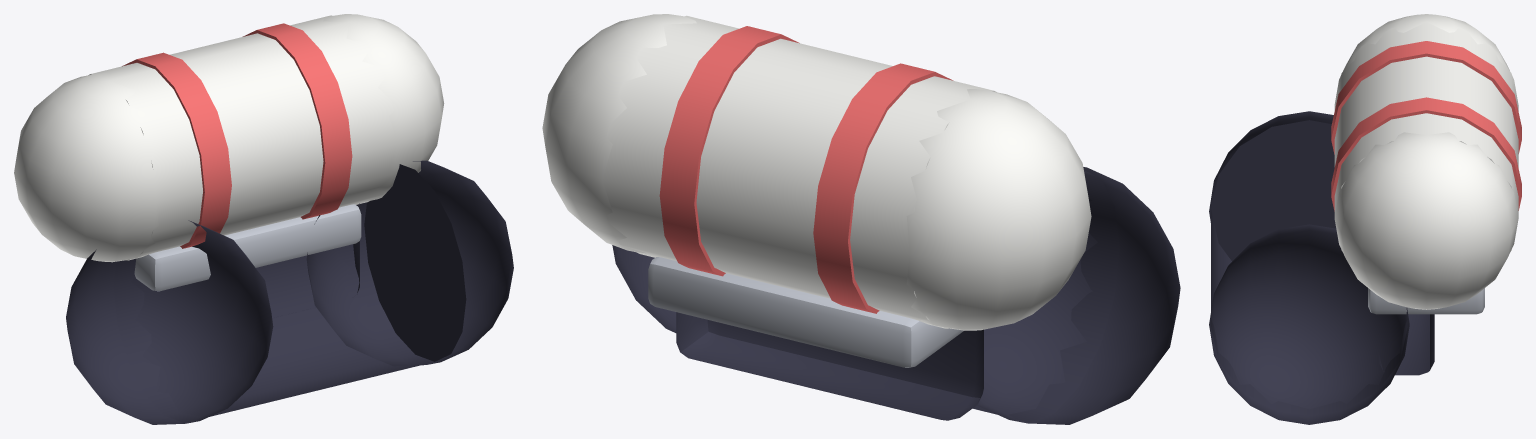
Rendered from Pieza_Tanque.fbx.
3 renders of one model, left to right at view 1: azimuth 30°, elevation 25°; view 2: azimuth 150°, elevation 25°; view 3: azimuth 270°, elevation 25°, orthographic. The views are drawn at different scales.
Parts seen in each view (by area): view 1: Tanque_Cuerpo, Tanque_Cuerpo_Contorno, Tanque_Tapa2_Contorno, Tanque_Tapa2, Tanque_Tapa1_Contorno, Tanque_Tapa1, Tanque_Soporte, Tanque_Franja1, Tanque_Franja2; view 2: Tanque_Cuerpo, Tanque_Tapa2, Tanque_Tapa2_Contorno, Tanque_Soporte_Contorno, Tanque_Soporte, Tanque_Tapa1, Tanque_Franja1, Tanque_Franja2, Tanque_Cuerpo_Contorno, Tanque_Tapa1_Contorno; view 3: Tanque_Tapa1_Contorno, Tanque_Tapa1, Tanque_Cuerpo_Contorno, Tanque_Cuerpo, Tanque_Franja1, Tanque_Franja2, Tanque_Tapa2, Tanque_Soporte_Contorno, Tanque_Soporte, Tanque_Tapa2_Contorno.
Boxes of the visible parts, x1,y1,x2,y2 form: Tanque_Cuerpo: (88, 15, 397, 260); Tanque_Cuerpo_Contorno: (113, 164, 466, 422); Tanque_Tapa2_Contorno: (66, 220, 273, 424); Tanque_Tapa2: (14, 72, 158, 262); Tanque_Tapa1_Contorno: (306, 160, 513, 366); Tanque_Tapa1: (323, 14, 444, 201); Tanque_Soporte: (134, 204, 361, 291); Tanque_Franja1: (242, 23, 352, 219); Tanque_Franja2: (122, 52, 231, 248); Tanque_Cuerpo: (602, 15, 996, 328); Tanque_Tapa2: (906, 89, 1091, 330); Tanque_Tapa2_Contorno: (977, 167, 1180, 424); Tanque_Soporte_Contorno: (676, 312, 983, 420); Tanque_Soporte: (648, 257, 963, 367); Tanque_Tapa1: (542, 14, 696, 253); Tanque_Franja1: (659, 26, 799, 276); Tanque_Franja2: (813, 63, 953, 313); Tanque_Cuerpo_Contorno: (973, 170, 1119, 422); Tanque_Tapa1_Contorno: (612, 245, 676, 332); Tanque_Tapa1_Contorno: (1209, 224, 1409, 424); Tanque_Tapa1: (1334, 132, 1518, 309); Tanque_Cuerpo_Contorno: (1211, 120, 1407, 415); Tanque_Cuerpo: (1334, 22, 1518, 250); Tanque_Franja1: (1331, 97, 1521, 211); Tanque_Franja2: (1331, 41, 1521, 154); Tanque_Tapa2: (1335, 14, 1517, 102); Tanque_Soporte_Contorno: (1378, 314, 1434, 375); Tanque_Soporte: (1368, 288, 1484, 314); Tanque_Tapa2_Contorno: (1209, 111, 1333, 222).
Bounding box in the file's own units: 2.8 × 1.87 × 1.87.
